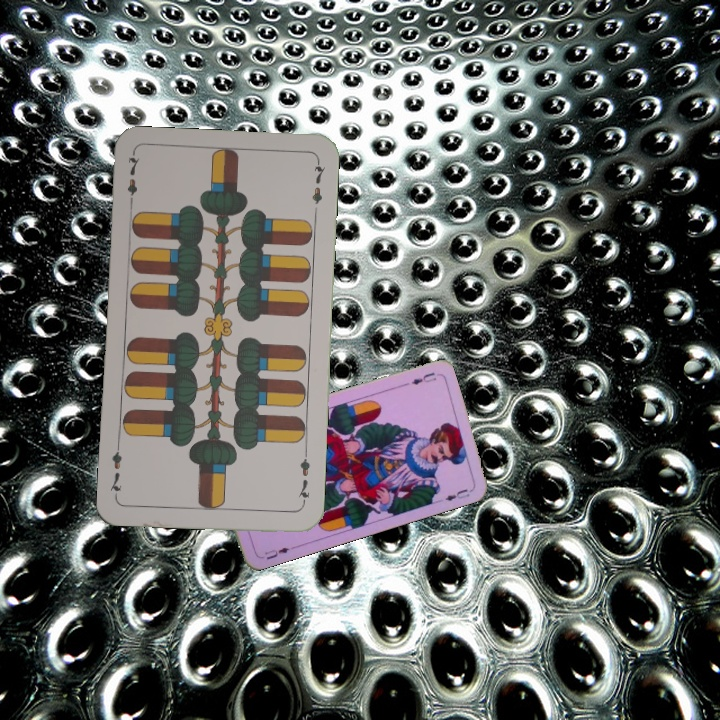E7: (293, 448, 313, 507), (123, 151, 143, 210)
EU: (256, 543, 296, 562), (407, 368, 439, 387)
